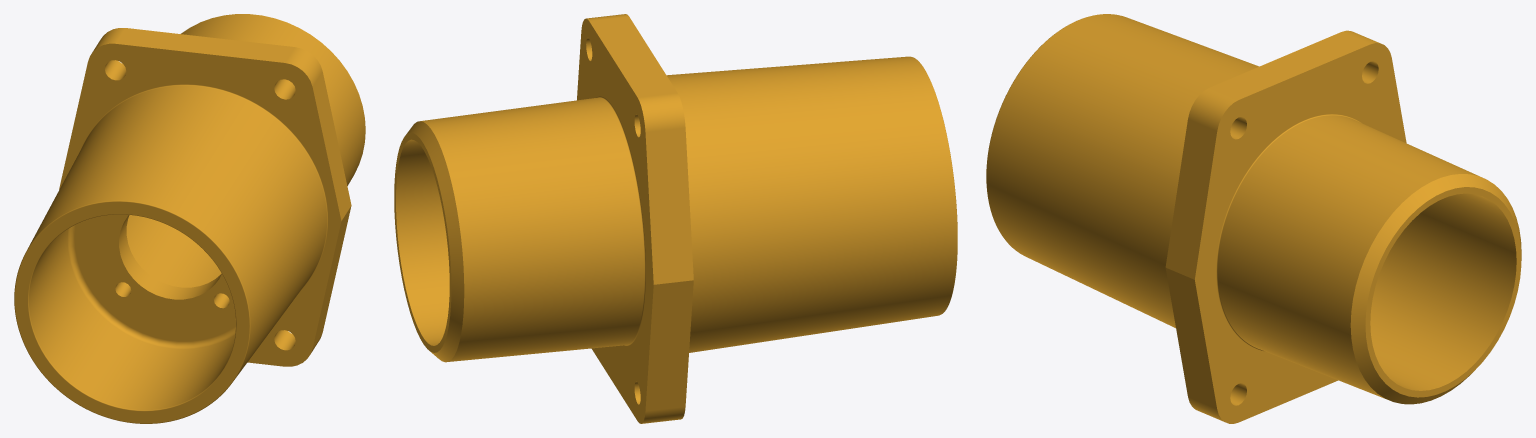
Rendered from 04.4_izolyator-prokhodnoy-ip-10-90x142.glb.
The picture shows the model from 3 angles, left to right: view 1: azimuth 30°, elevation 25°; view 2: azimuth 150°, elevation 25°; view 3: azimuth 270°, elevation 25°; orthographic projection. The views are drawn at different scales.
Visible parts, largest first — view 1: 04.4_izolyator-prokhodnoy-ip-10-90x142; view 2: 04.4_izolyator-prokhodnoy-ip-10-90x142; view 3: 04.4_izolyator-prokhodnoy-ip-10-90x142.
Part boxes in pixels (left/top/right/bottom): 04.4_izolyator-prokhodnoy-ip-10-90x142: left=14, top=14, right=365, bottom=423; 04.4_izolyator-prokhodnoy-ip-10-90x142: left=394, top=14, right=957, bottom=423; 04.4_izolyator-prokhodnoy-ip-10-90x142: left=986, top=14, right=1521, bottom=423.
Size of the model in its own units: 259 by 172 by 259.
